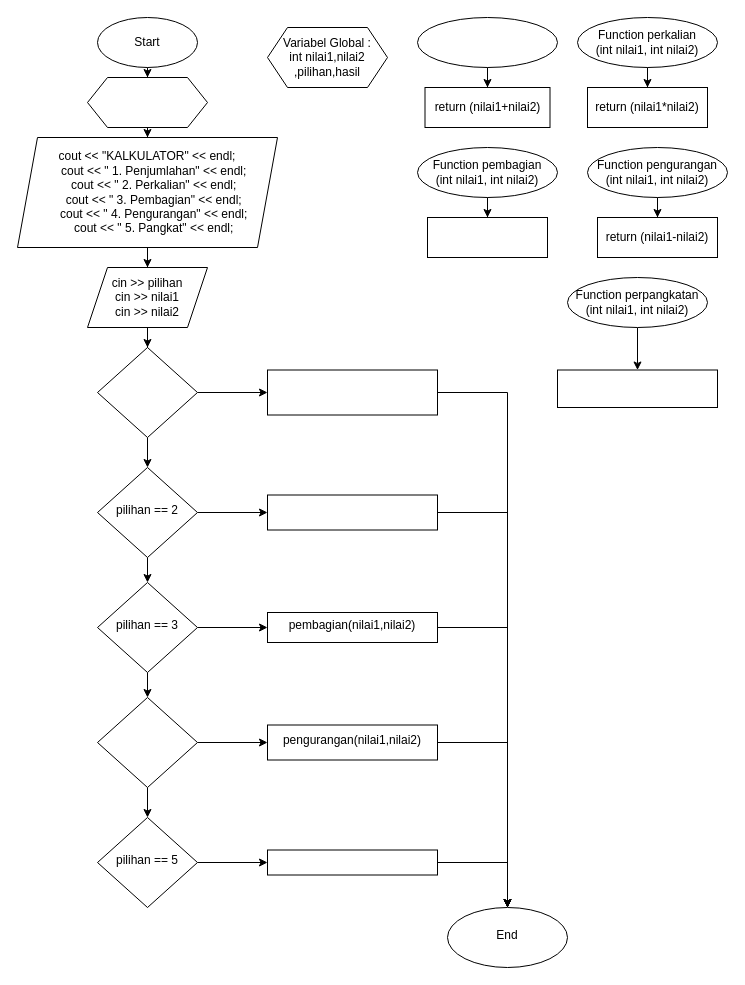
Some shapes in this 745 by 985 pixel diagram are drawn without their labels. The centre of each missing label's shape, as x and y in pixels:
"Function penjumlahan (int nilai1, int nilai2)" goes at pixel 487 42.
"int main() #include <iostream> #include<cmath>" goes at pixel 147 102.
"pangkat(nilai1,nilai2)" goes at pixel 352 862.
"penjumlahan(nilai1,nilai2)" goes at pixel 352 392.
"perkalian(nilai1,nilai2)" goes at pixel 352 512.
"pilihan == 1" goes at pixel 147 392.
"pilihan == 4" goes at pixel 147 742.
"return (nilai1/nilai2)" goes at pixel 487 237.
"return (pow(nilai1,nilai2)" goes at pixel 637 388.
